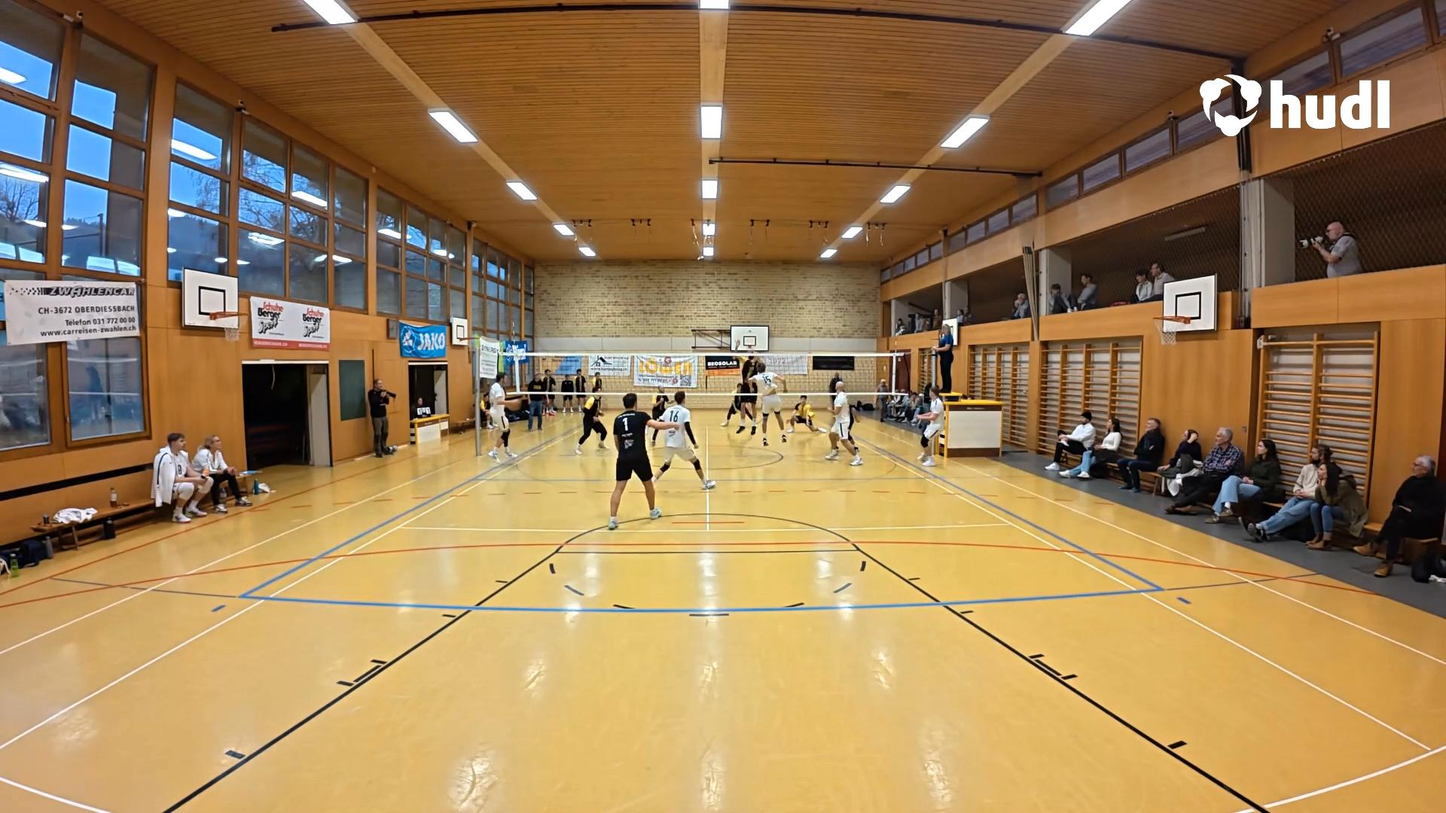Block: (732, 337, 761, 439)
Dig: (782, 389, 819, 442)
Player: (606, 394, 660, 531), (657, 393, 712, 492), (747, 358, 789, 447), (825, 375, 863, 465), (486, 370, 515, 460), (918, 383, 946, 470), (575, 387, 611, 452), (644, 386, 673, 444), (718, 379, 744, 428)
ball: (807, 409, 816, 419)
